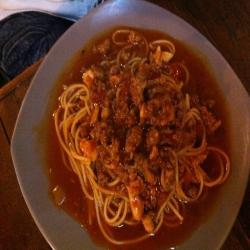bolonese_pasta: (35, 31, 235, 244)
